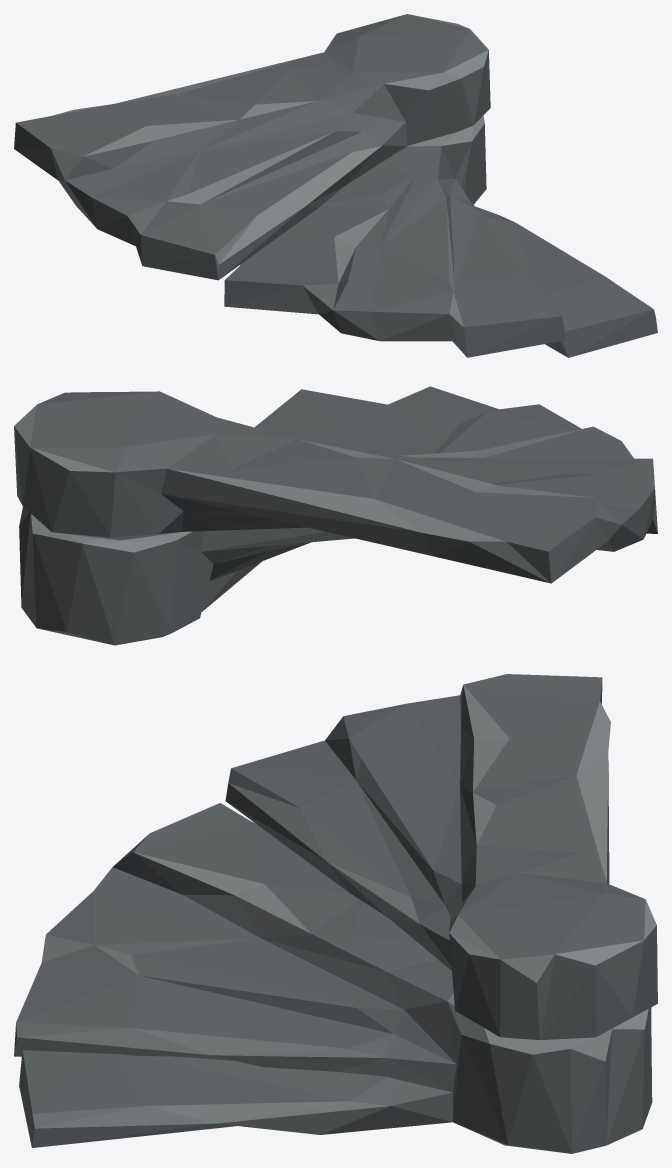
Rendered from MCastle_Steps_06.FBX.
3 views of the same model, one above another, from view 1: azimuth 30°, elevation 25°; view 2: azimuth 150°, elevation 25°; view 3: azimuth 270°, elevation 25° (orthographic). The views are drawn at different scales.
Visible parts, largest first — view 1: MCastle_Steps_06_LOD0; view 2: MCastle_Steps_06_LOD0; view 3: MCastle_Steps_06_LOD0.
Boxes of the visible parts, left/top/right/bottom form: MCastle_Steps_06_LOD0: left=14, top=14, right=657, bottom=357; MCastle_Steps_06_LOD0: left=14, top=386, right=657, bottom=645; MCastle_Steps_06_LOD0: left=14, top=674, right=657, bottom=1153.
Size of what is drawn, in the model's own units: 4.09 by 1.39 by 3.89.
